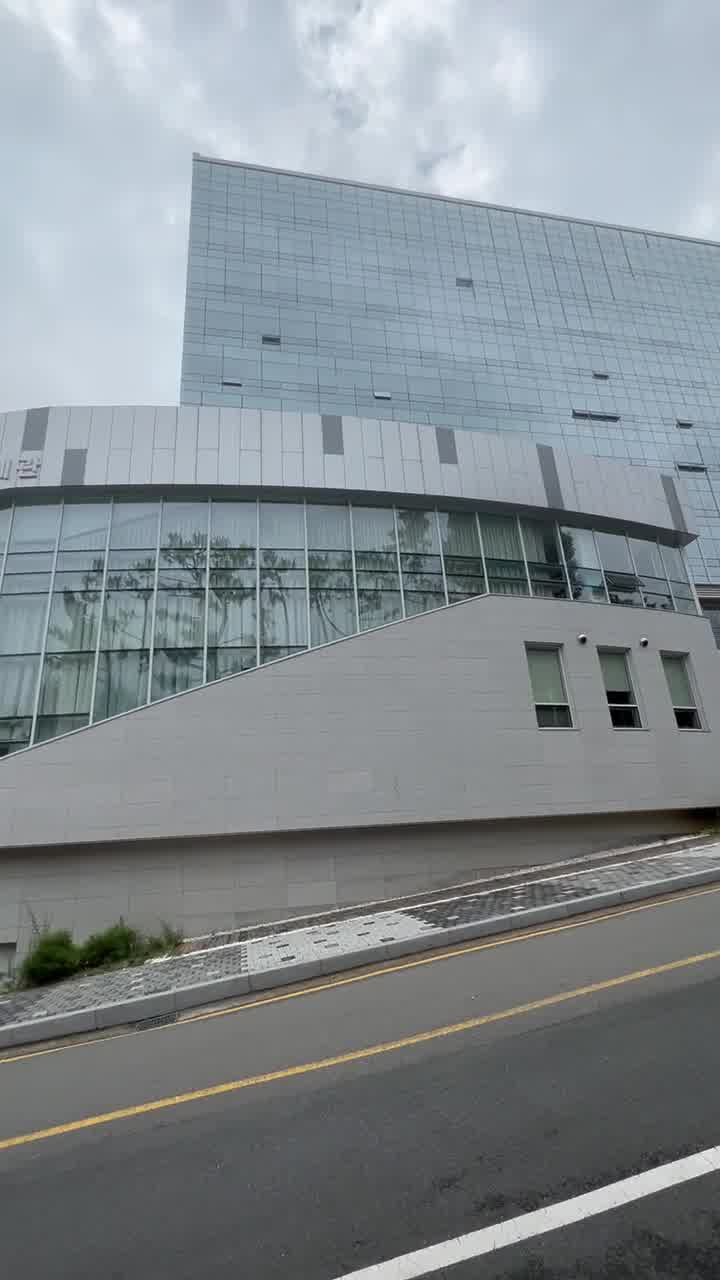medium: (106, 140, 720, 830)
